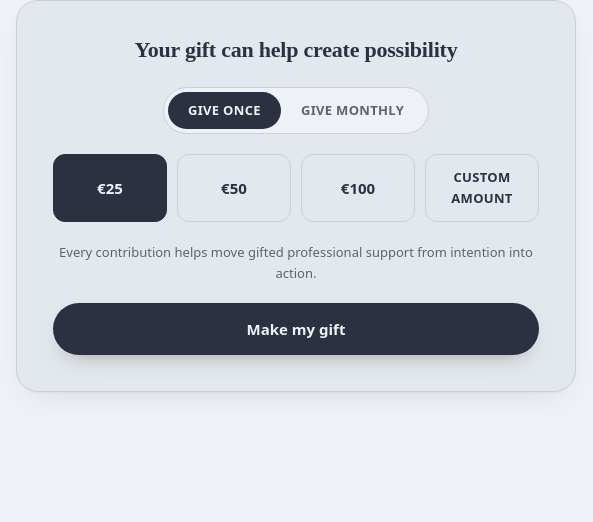
DonateForm › reveals a numeric input when Custom amount is picked, and blocks submit with no amount chosen
Expected: the field labelled "Custom gift amount" is not shown
Click the button "Custom amount" at {"x": 482, "y": 188}, box [425, 154, 539, 222]
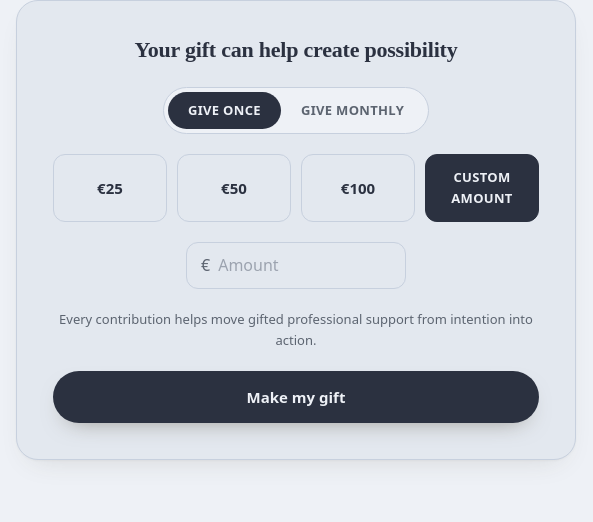
Expected: the number field named "Custom gift amount" is shown, [218, 253, 391, 278]
Click the button "Make my gift" at {"x": 296, "y": 397}, box [53, 371, 539, 423]
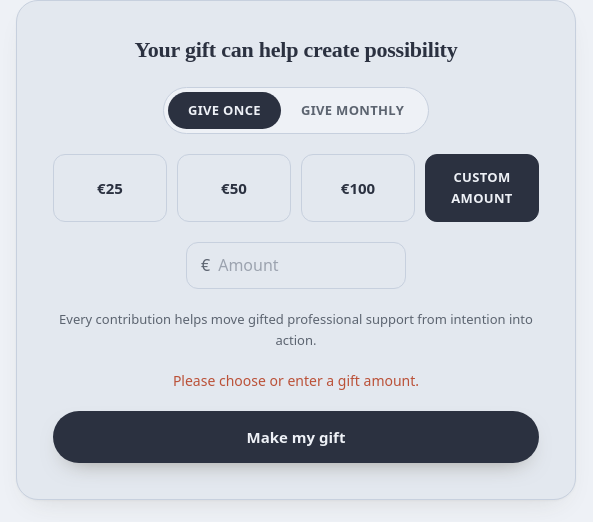
Expected: the text "Please choose or enter a gift amount." is shown, [173, 371, 419, 391]
